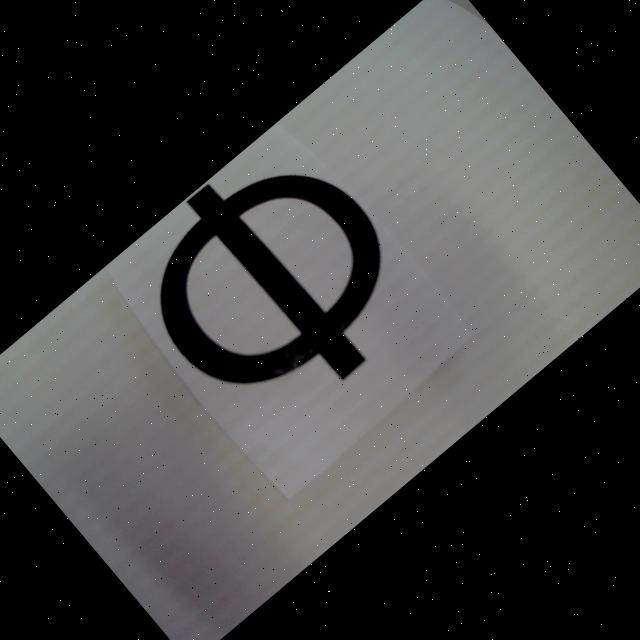PHI: (107, 116, 439, 449)
